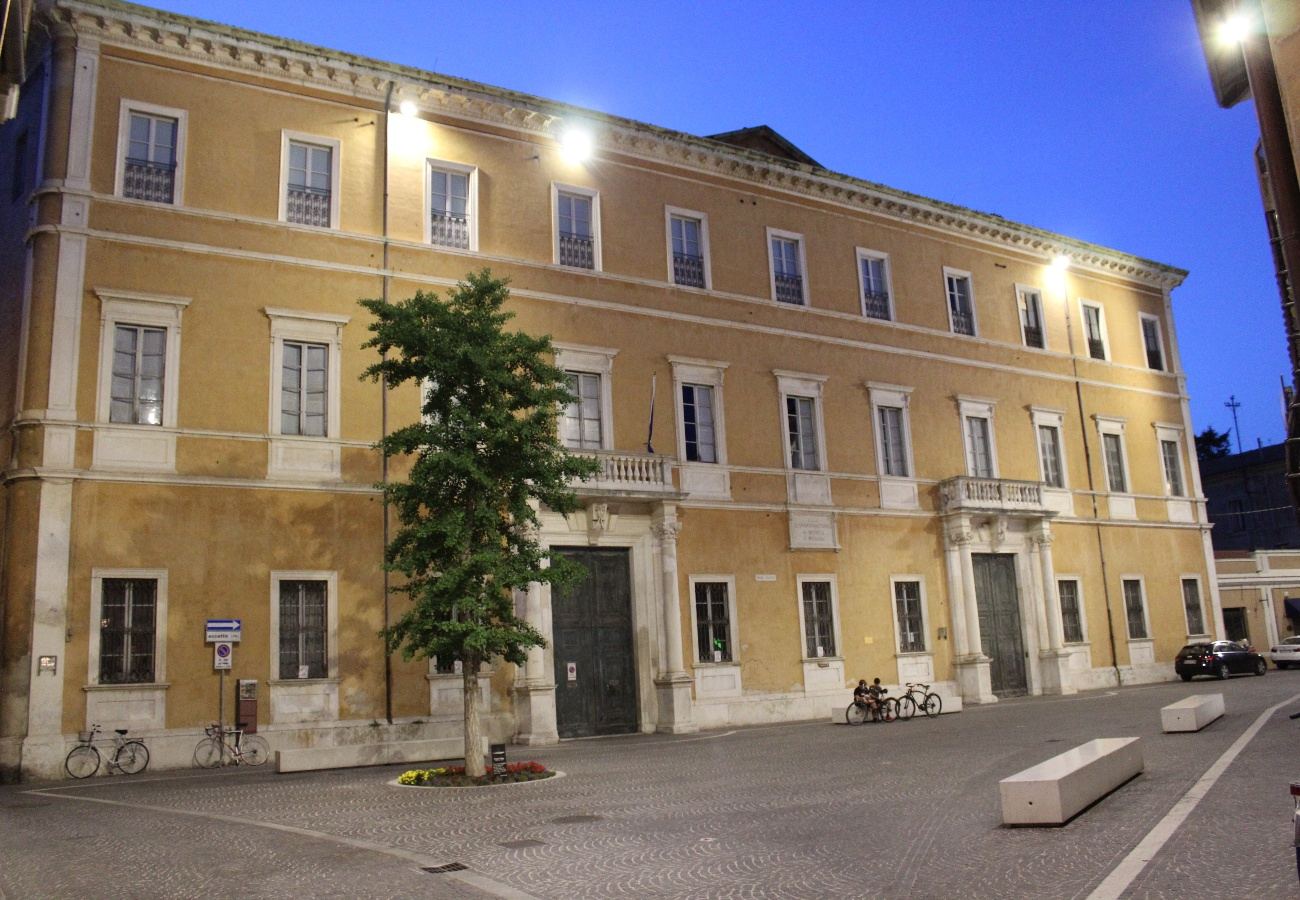Palazzo Olivieri: (55, 1, 1183, 759)
